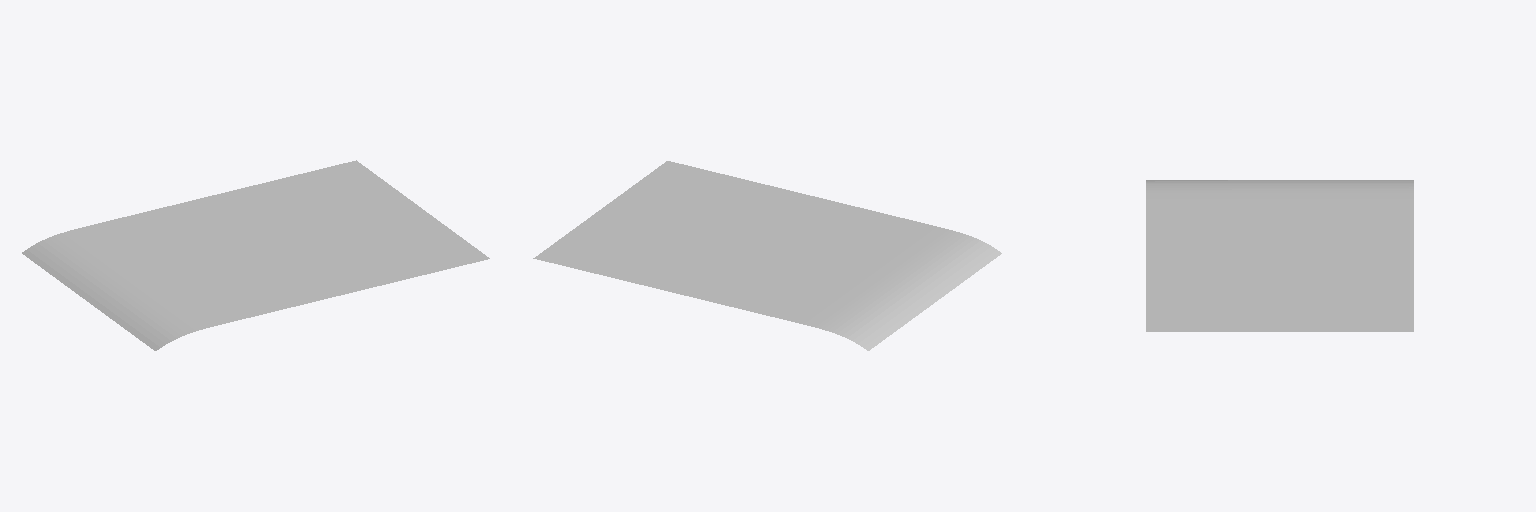
File: CurvePaper_000069.obj
The picture shows the model from 3 angles: view 1: azimuth 30°, elevation 25°; view 2: azimuth 150°, elevation 25°; view 3: azimuth 270°, elevation 25°; orthographic projection.
Visible parts, largest first — view 1: Plane; view 2: Plane; view 3: Plane.
Boxes of the visible parts, x1=… form: Plane: x1=22, y1=160, x2=489, y2=350; Plane: x1=533, y1=161, x2=1001, y2=350; Plane: x1=1146, y1=180, x2=1413, y2=331.
Size of the model in its own units: 3.26 by 0.1055 by 2.26.